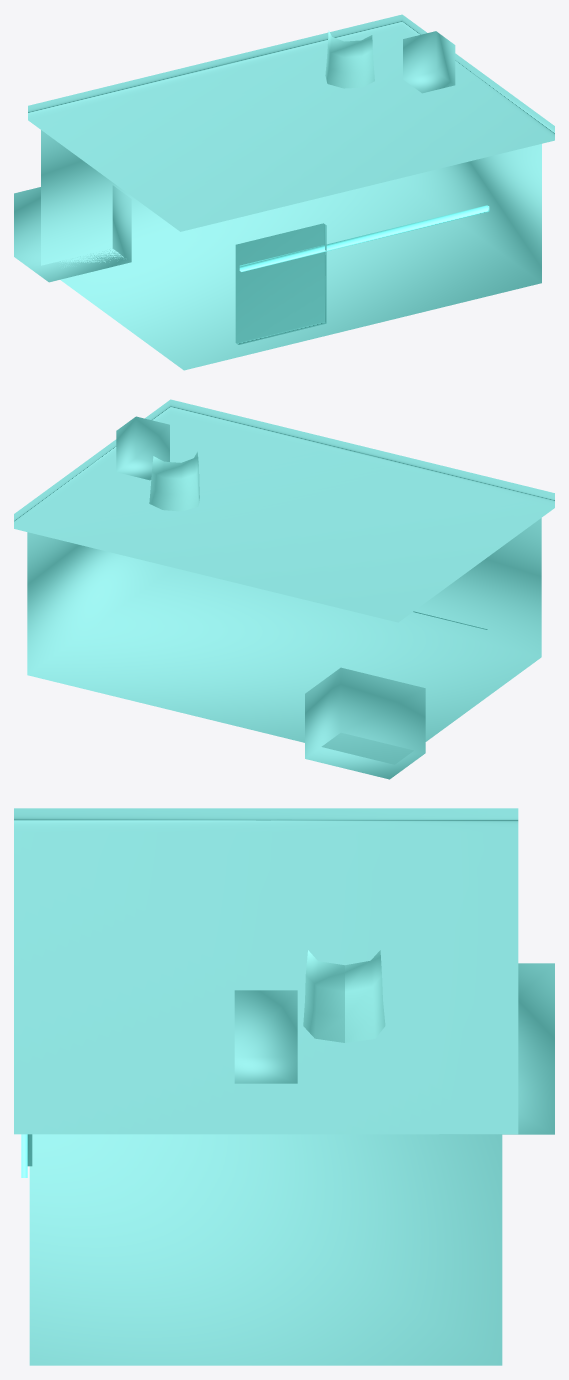
The model's file is facility_block.glb.
3 views of the same model, one above another, from view 1: azimuth 30°, elevation 25°; view 2: azimuth 150°, elevation 25°; view 3: azimuth 270°, elevation 25° (orthographic). The views are drawn at different scales.
Visible parts, largest first — view 1: facility_block; view 2: facility_block; view 3: facility_block.
Boxes of the visible parts, x1,y1,x2,y2 form: facility_block: [14, 14, 554, 370]; facility_block: [14, 399, 554, 779]; facility_block: [14, 808, 554, 1365].
Size of the model in its own units: 13.7 by 7.1 by 10.3.
